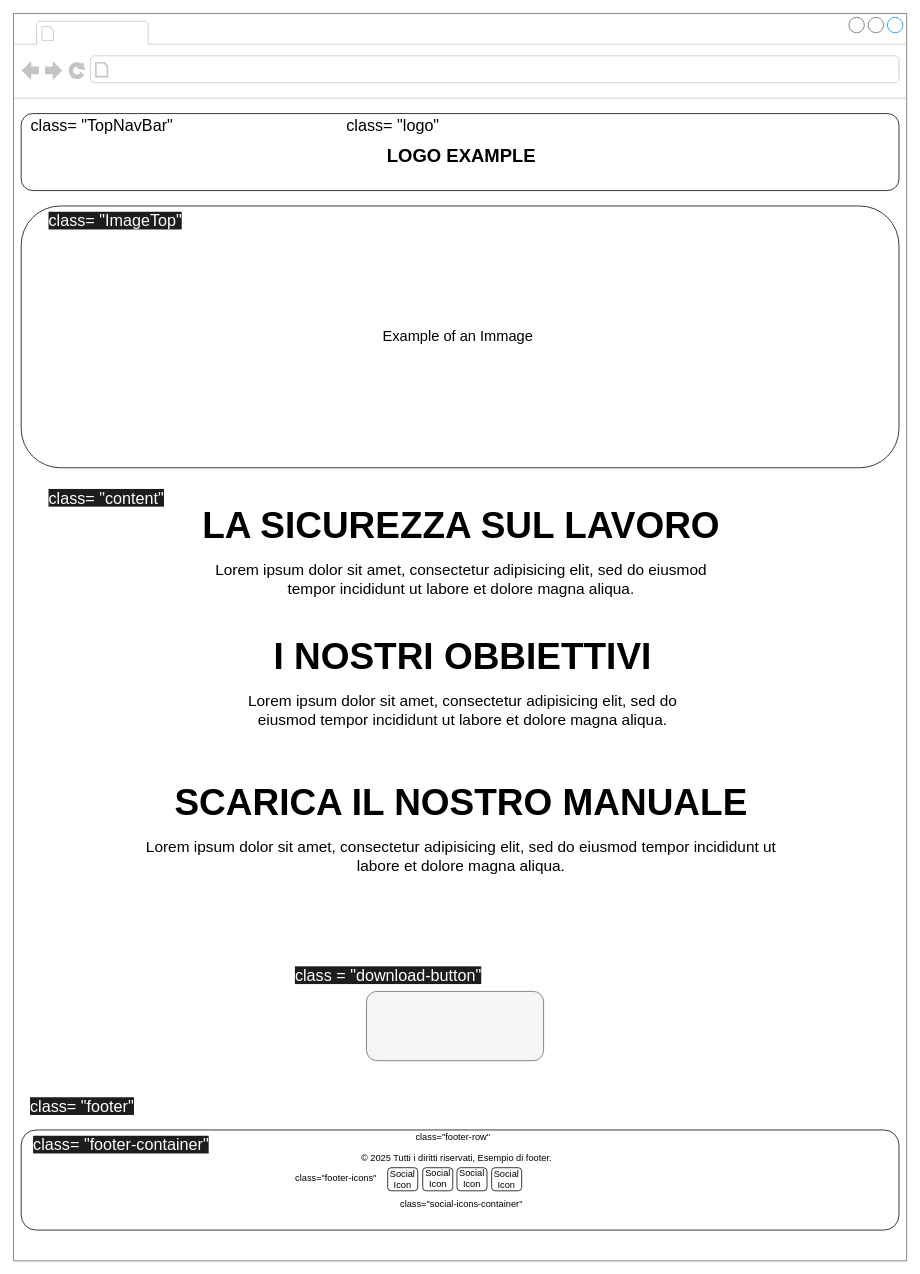
This 920x1274 diagram has some shape labels left out. The shapes that lost their labels are listed below. From the top down, each one's centre as x and y in pixels, then its label:
At (x=101, y=32): "Homepage".
At (x=209, y=69): "https://www.mywebsite.com".
At (x=455, y=1026): "DOWNLOAD".
